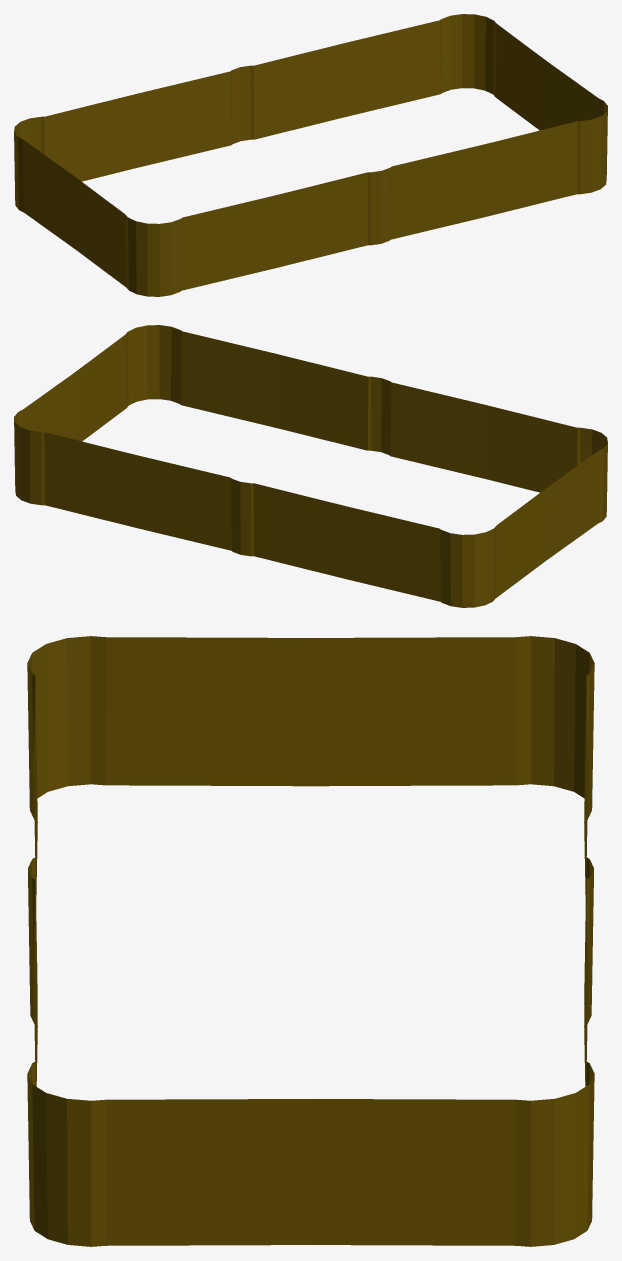
The model's file is walls.glb.
3 renders of one model, top to bottom at view 1: azimuth 30°, elevation 25°; view 2: azimuth 150°, elevation 25°; view 3: azimuth 270°, elevation 25°, orthographic. The views are drawn at different scales.
Parts seen in each view (by area): view 1: Walls; view 2: Walls; view 3: Walls.
Part boxes in pixels (x1,y1,x2,y2): Walls: (14, 14, 607, 296); Walls: (14, 325, 607, 607); Walls: (27, 636, 594, 1246).
Bounding box in the file's own units: 3.07 × 0.4528 × 1.58.
